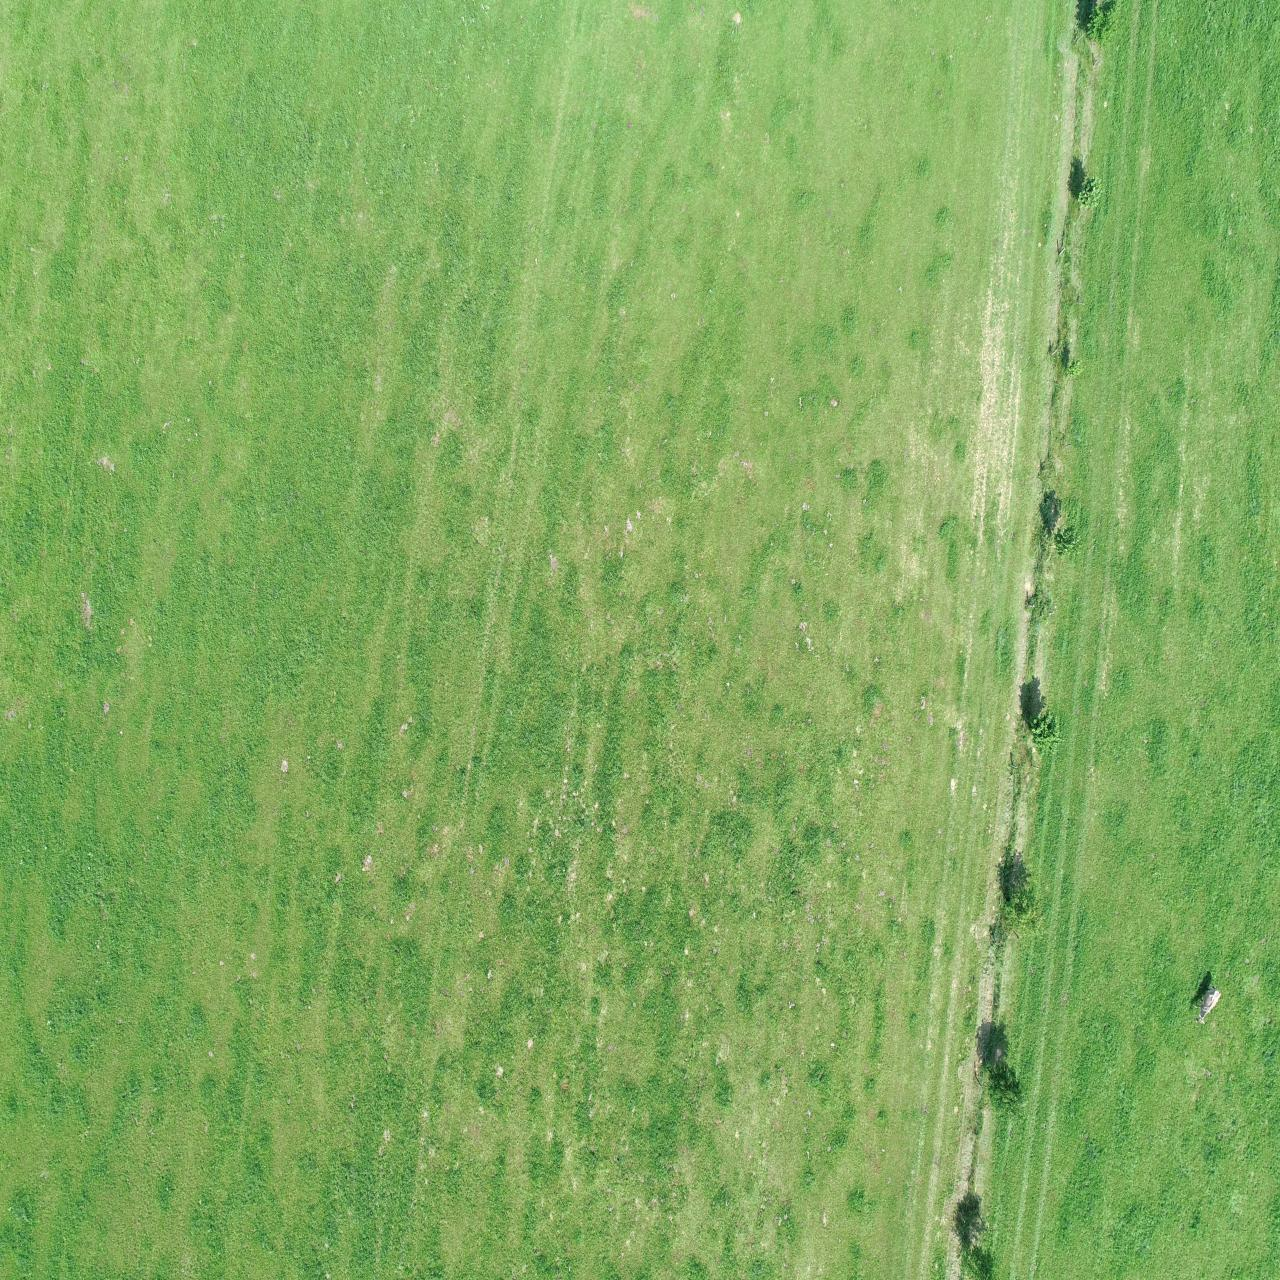cow: (157, 393, 186, 449), (48, 556, 74, 610)
